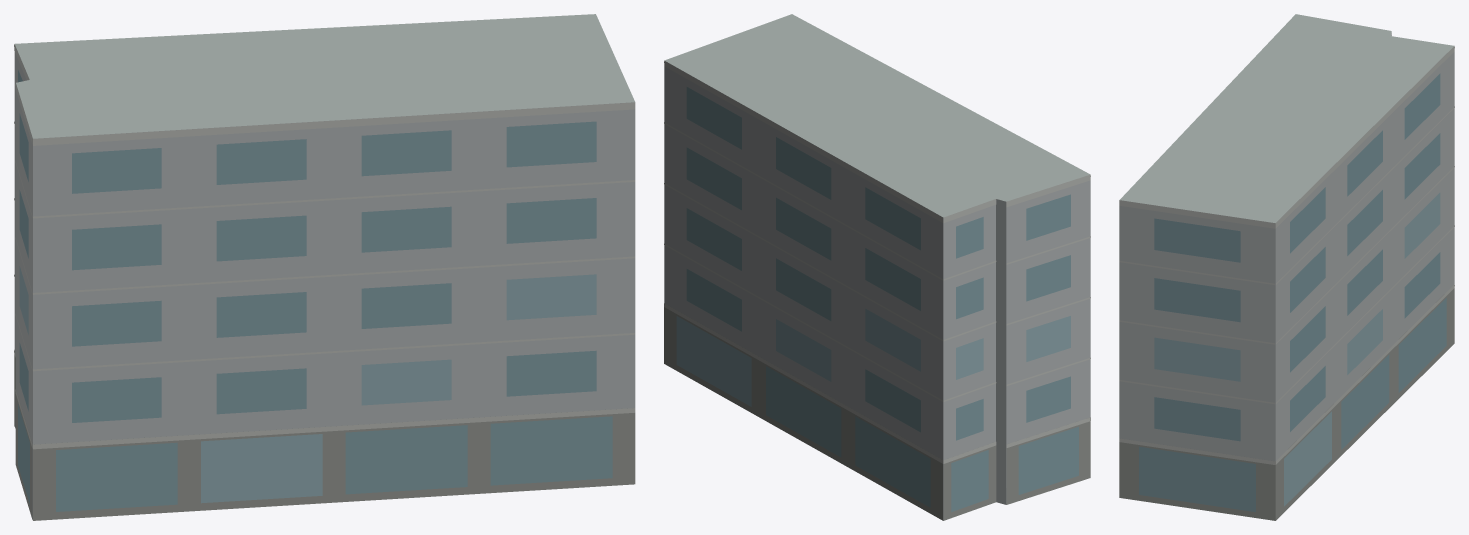
File: survey-upis-32728744.glb
3 views of the same model, side by side, from view 1: azimuth 30°, elevation 25°; view 2: azimuth 150°, elevation 25°; view 3: azimuth 270°, elevation 25° (orthographic). The views are drawn at different scales.
Parts seen in each view (by area): view 1: survey-upis-32728744.tmp; view 2: survey-upis-32728744.tmp; view 3: survey-upis-32728744.tmp.
Boxes of the visible parts, x1,y1,x2,y2 form: survey-upis-32728744.tmp: [14, 14, 635, 520]; survey-upis-32728744.tmp: [664, 14, 1090, 520]; survey-upis-32728744.tmp: [1119, 14, 1454, 520].
Bounding box in the file's own units: 19.46 × 12.9 × 13.19.
